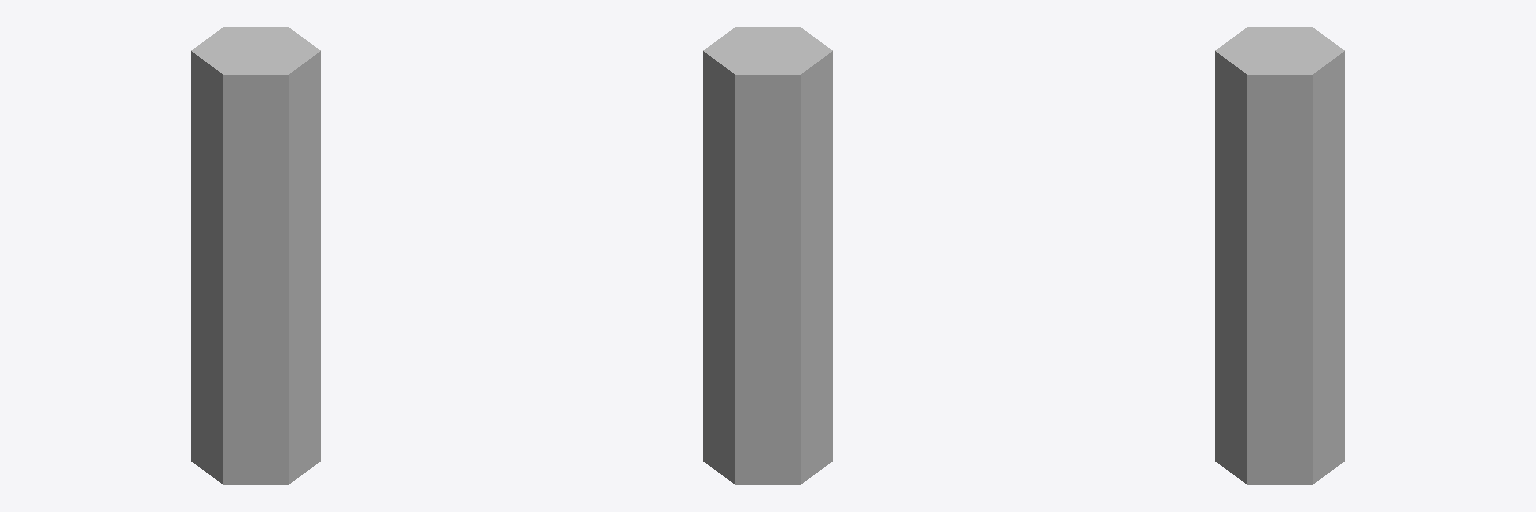
Rendered from VFXMeshParticleFloor02.obj.
3 views of the same model, side by side, from view 1: azimuth 30°, elevation 25°; view 2: azimuth 150°, elevation 25°; view 3: azimuth 270°, elevation 25° (orthographic).
Parts seen in each view (by area): view 1: VFXMeshParticleFloor02_Circle; view 2: VFXMeshParticleFloor02_Circle; view 3: VFXMeshParticleFloor02_Circle.
Part boxes in pixels (x1,y1,x2,y2): VFXMeshParticleFloor02_Circle: (191,27,320,484); VFXMeshParticleFloor02_Circle: (703,27,832,484); VFXMeshParticleFloor02_Circle: (1215,27,1344,484).
Bounding box in the file's own units: 0.9959 × 4 × 1.15.